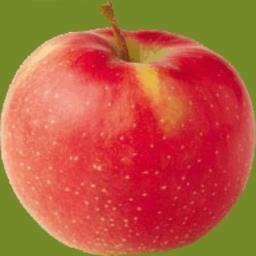apple: (0, 7, 256, 256)
